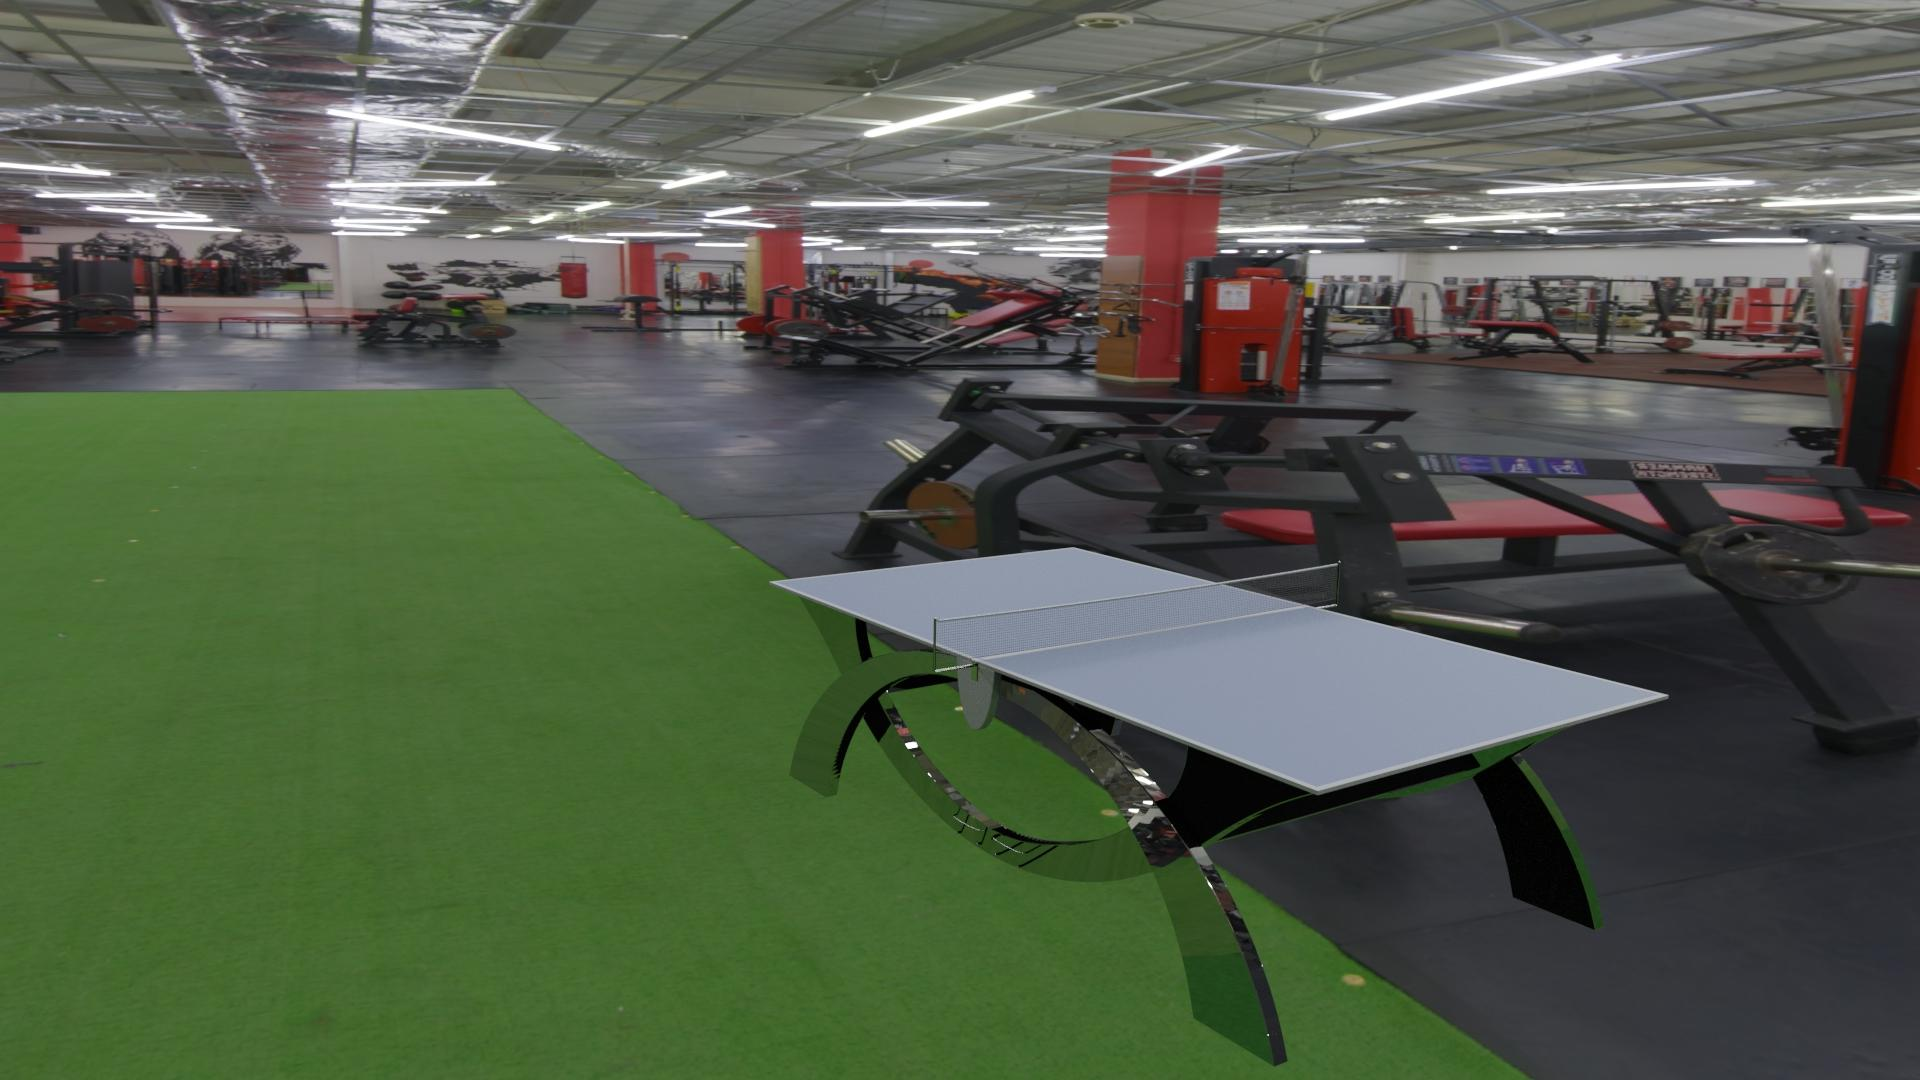table: (777, 549, 1659, 787)
